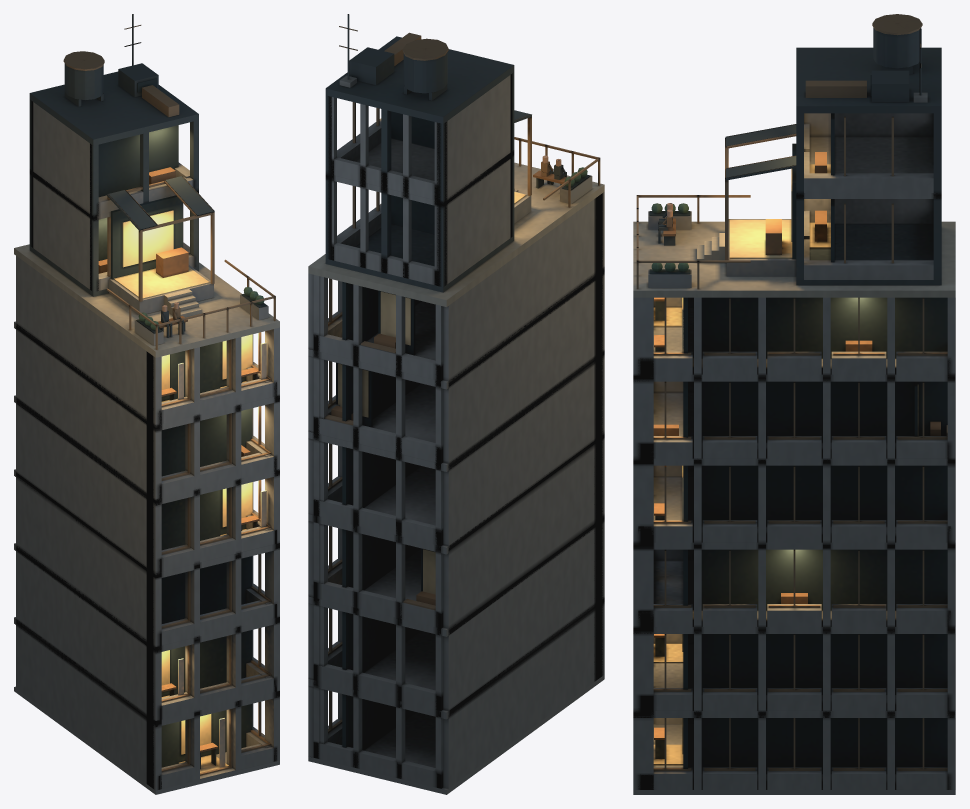
Rendered from midrise34.glb.
3 renders of one model, left to right at view 1: azimuth 30°, elevation 25°; view 2: azimuth 150°, elevation 25°; view 3: azimuth 270°, elevation 25°, orthographic. The views are drawn at different scales.
Parts seen in each view (by area): view 1: MIDRISE34_EXACT_BAKED_MESH; view 2: MIDRISE34_EXACT_BAKED_MESH; view 3: MIDRISE34_EXACT_BAKED_MESH.
Part boxes in pixels (x1,y1,x2,y2): MIDRISE34_EXACT_BAKED_MESH: [14, 14, 279, 794]; MIDRISE34_EXACT_BAKED_MESH: [308, 14, 604, 794]; MIDRISE34_EXACT_BAKED_MESH: [633, 14, 955, 794].
Size of the model in its own units: 5.45 by 27.82 by 10.77.
Materials: 1 (1 with a texture image).
